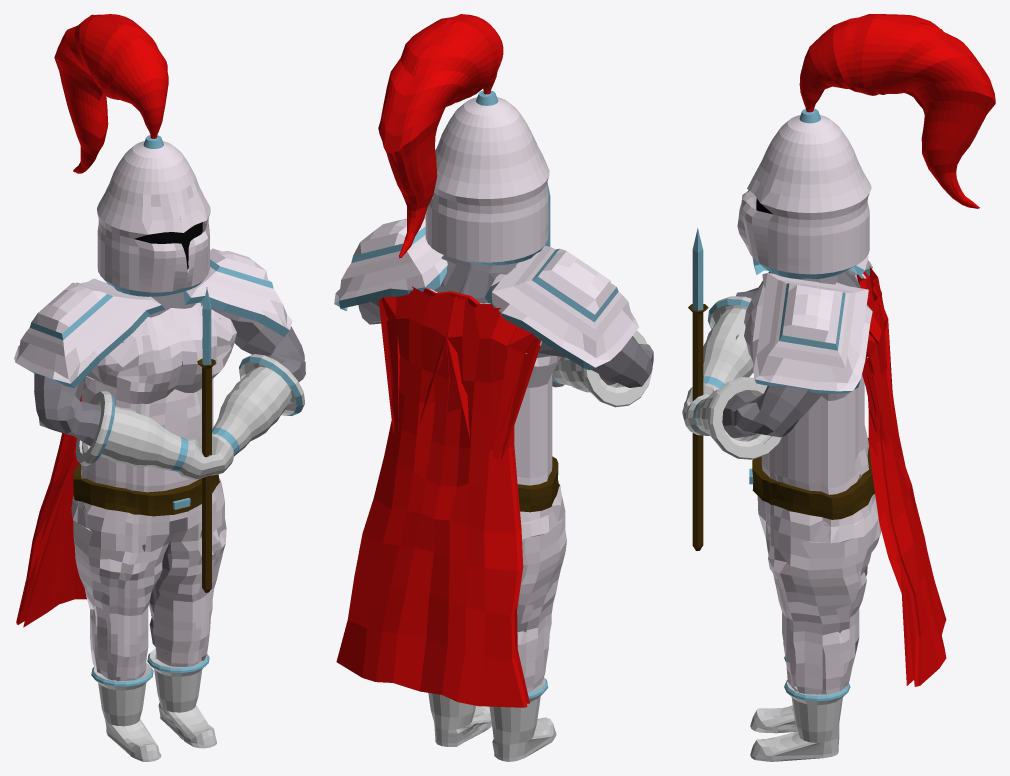
File: Knit.fbx
3 renders of one model, left to right at view 1: azimuth 30°, elevation 25°; view 2: azimuth 150°, elevation 25°; view 3: azimuth 270°, elevation 25°, orthographic. The views are drawn at different scales.
Parts seen in each view (by area): view 1: Torse into pantalon, casque, Epaulières, Gants, Le corps, Bottes, Lance; view 2: Epaulières, casque, Torse into pantalon, Bottes, Le corps, Gants; view 3: casque, Torse into pantalon, Epaulières, Gants, Bottes, Le corps, Lance.
Boxes of the visible parts, box(x1,y1,x2,y2) form: Torse into pantalon: box(71, 302, 236, 681); casque: box(54, 14, 210, 296); Epaulières: box(14, 248, 292, 627); Gants: box(75, 354, 304, 479); Le corps: box(34, 219, 305, 653); Bottes: box(91, 648, 216, 761); Lance: box(197, 287, 215, 592); Epaulières: box(334, 216, 638, 707); casque: box(378, 14, 549, 265); Torse into pantalon: box(514, 355, 566, 692); Bottes: box(428, 677, 556, 761); Le corps: box(358, 255, 653, 505); Gants: box(552, 330, 652, 407); casque: box(737, 14, 995, 279); Torse into pantalon: box(744, 272, 881, 694); Epaulières: box(752, 255, 946, 686); Gants: box(682, 296, 781, 459); Bottes: box(750, 655, 850, 761); Le corps: box(722, 198, 867, 576); Lance: box(688, 228, 708, 550).
Bounding box in the file's own units: 355 × 889 × 349.
